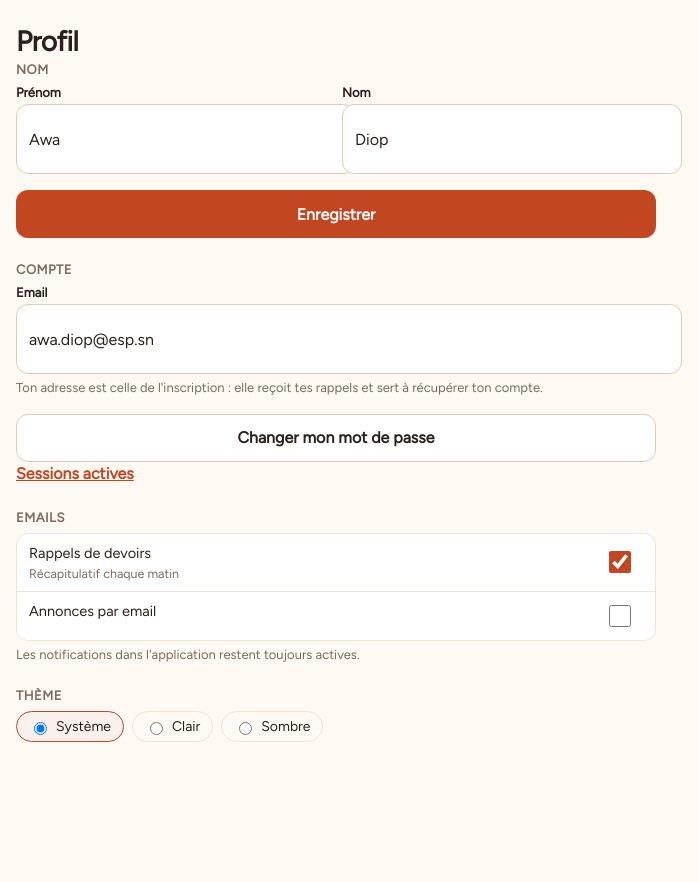
Test case: profil (P10, M14) › administrateur : politique de 16 caractères avant tout envoi
Expected: the heading "Profil" is shown, [16,24,78,58]
Click the button "Changer mon mot de passe". click: x=336, y=438
box: [16,414,656,462]
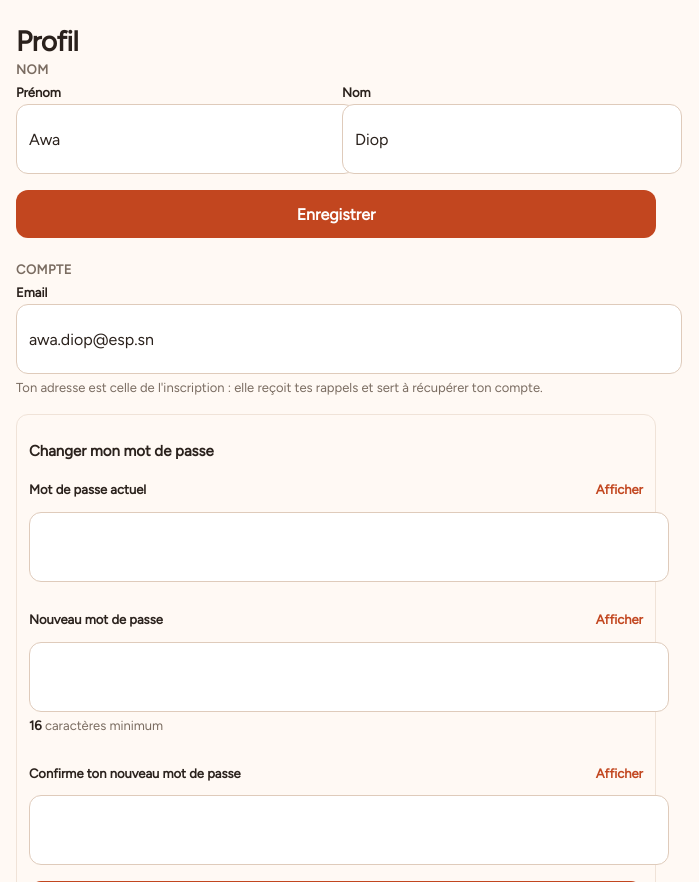
Expected: the text "16 caractères minimum" is shown, [29,718,163,732]
Type "ancien mot de passe actuel" into the password field labelled "Mot de passe actuel". click: x=349, y=546
box: [29,512,669,582]
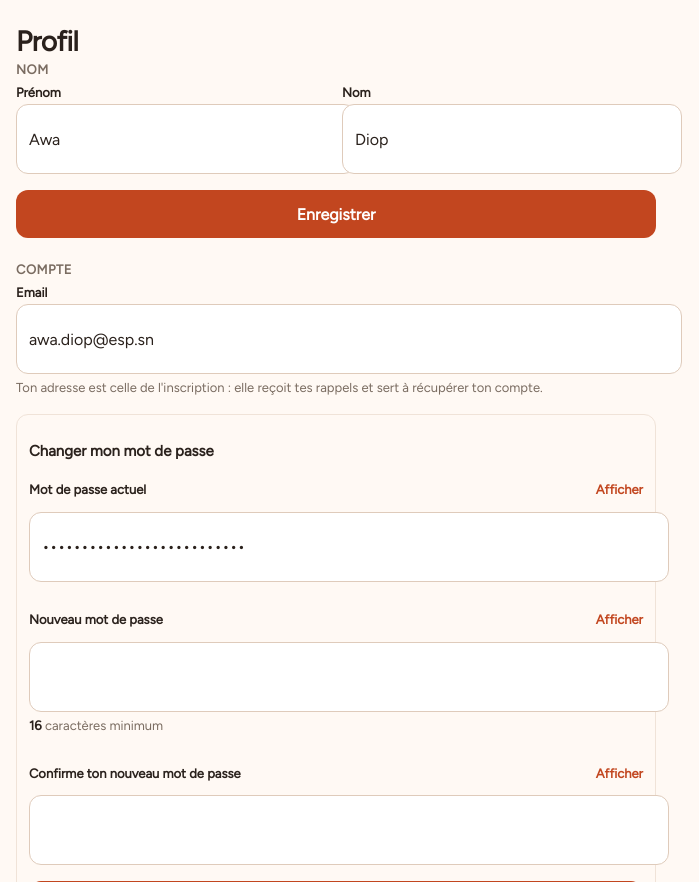
Type "123456789012345" into the password field labelled "Nouveau mot de passe". click: x=349, y=676
box: [29,642,669,712]
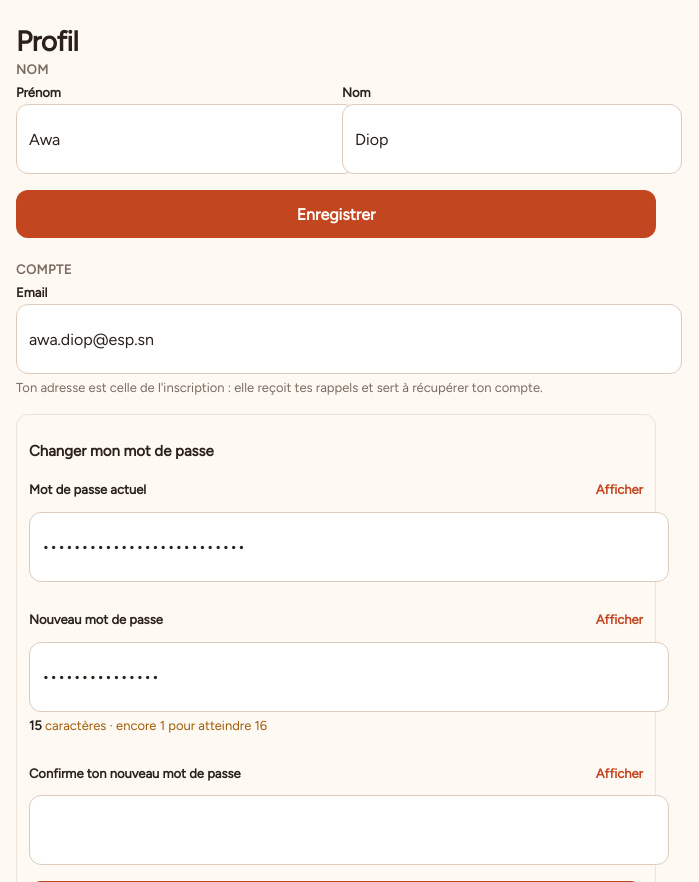
Type "123456789012345" into the password field labelled "Confirme ton nouveau mot de passe". click: x=349, y=830
box: [29,795,669,865]
(page scrolled)
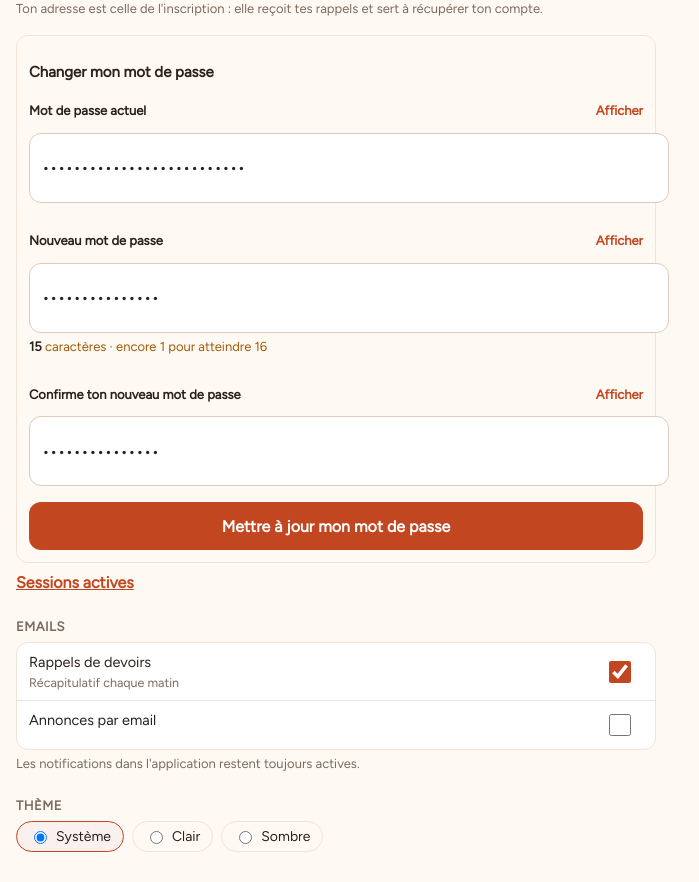
Click the button "Mettre à jour mon mot de passe". click: x=336, y=526
box: [29,502,643,550]
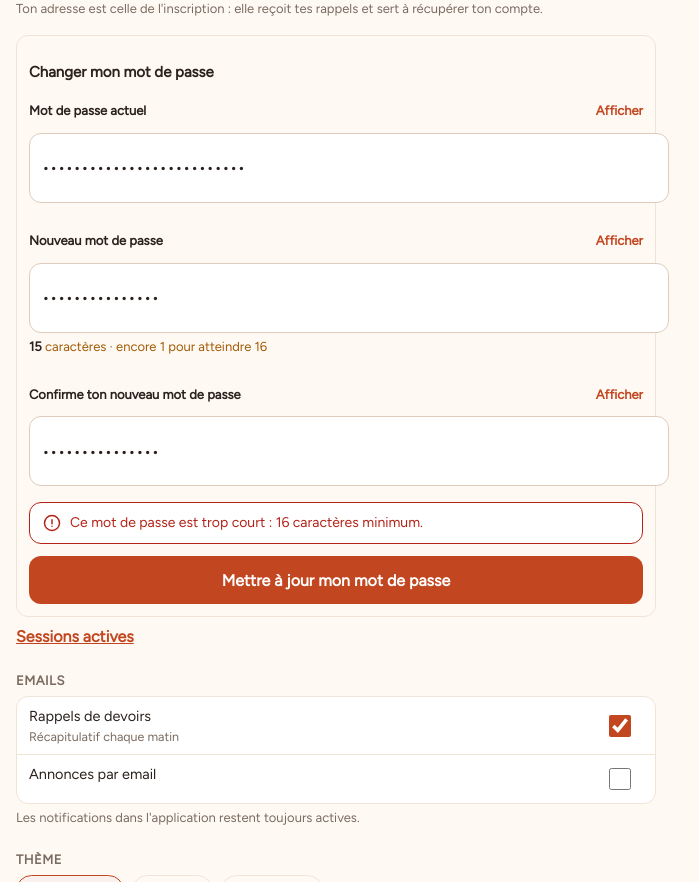
Expected: the text "Ce mot de passe est trop court : 16 caractères minimum." is shown, [70,513,423,533]
